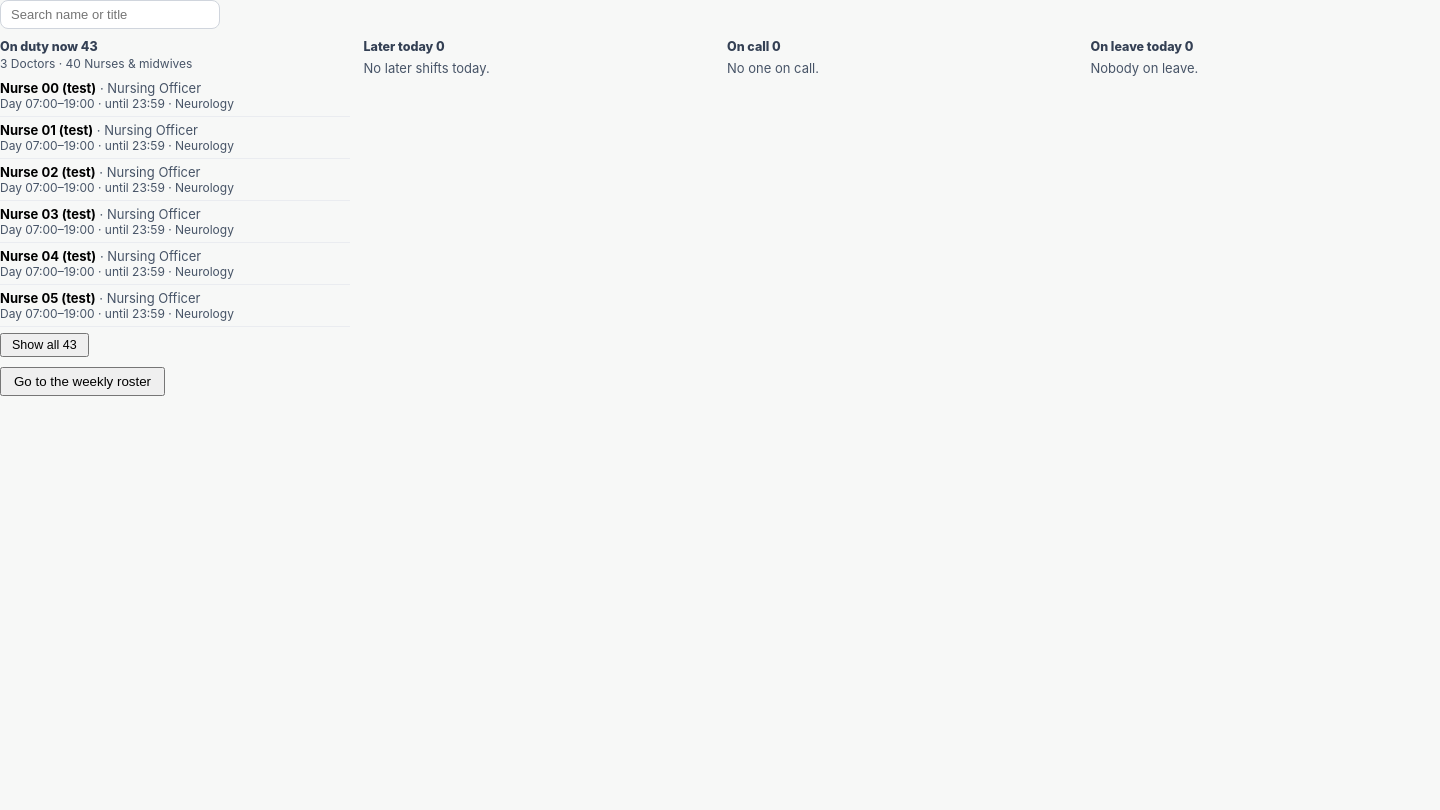
it: large departments › summarises by role, shows 6 per group until "Show all", and searches by name
The image size is (1440, 810).
expect the text "3 Doctors · 40 Nurses & midwives" is shown: met, box [0,56,192,71]
expect the text "Nurse 00 (test)" is shown 6 times: met, box [0,80,96,96]; [0,122,93,138]; [0,164,96,180]; [0,206,96,222]; [0,248,96,264]; [0,290,96,306]
Step 1. Click the button "Show all 43" → (44, 345), box [0,333,89,357]
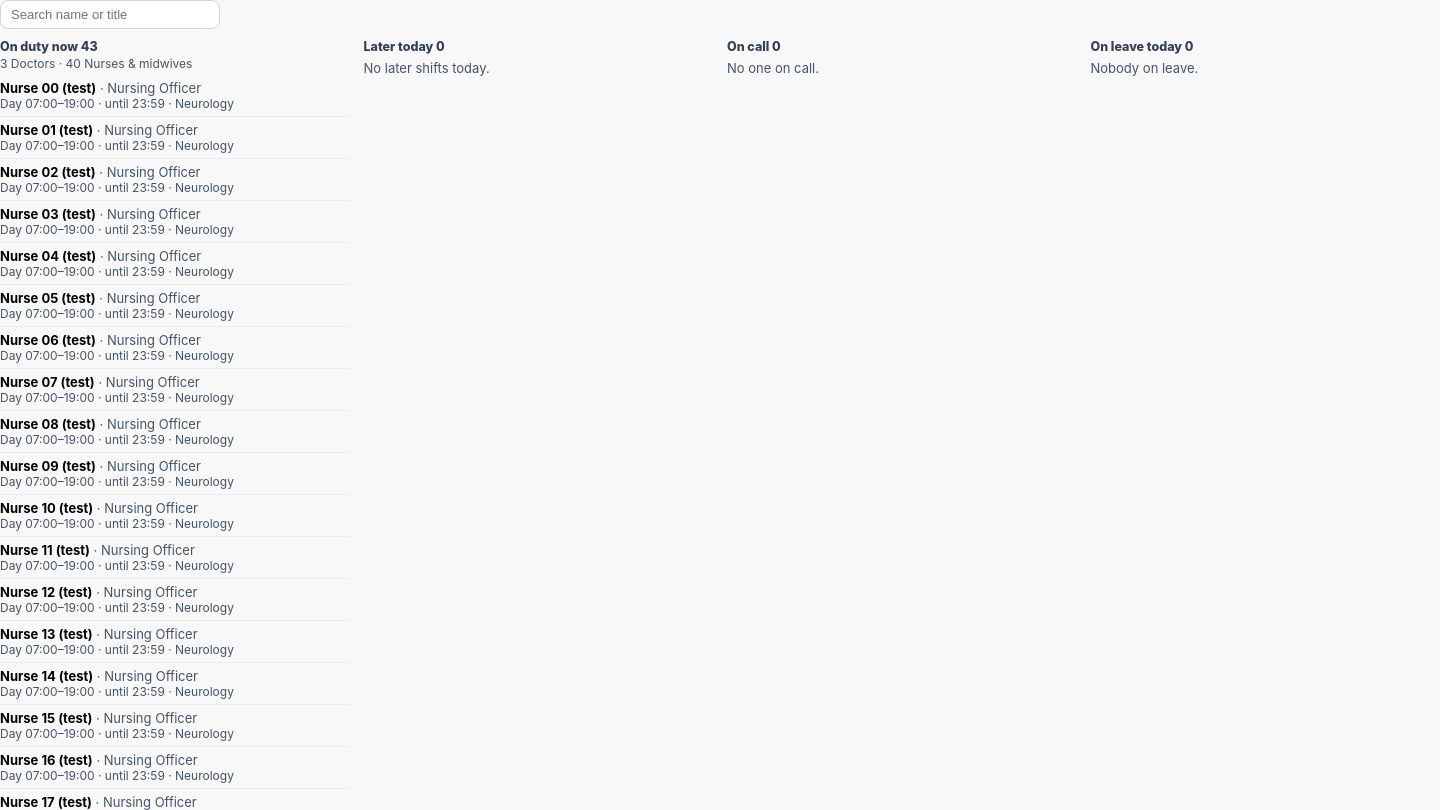
expect the text "Nurse 00 (test)" is shown 43 times: met
Step 2. Type "doctor" into the search field named "Search the duty list" → (110, 14), box [0,0,220,29]
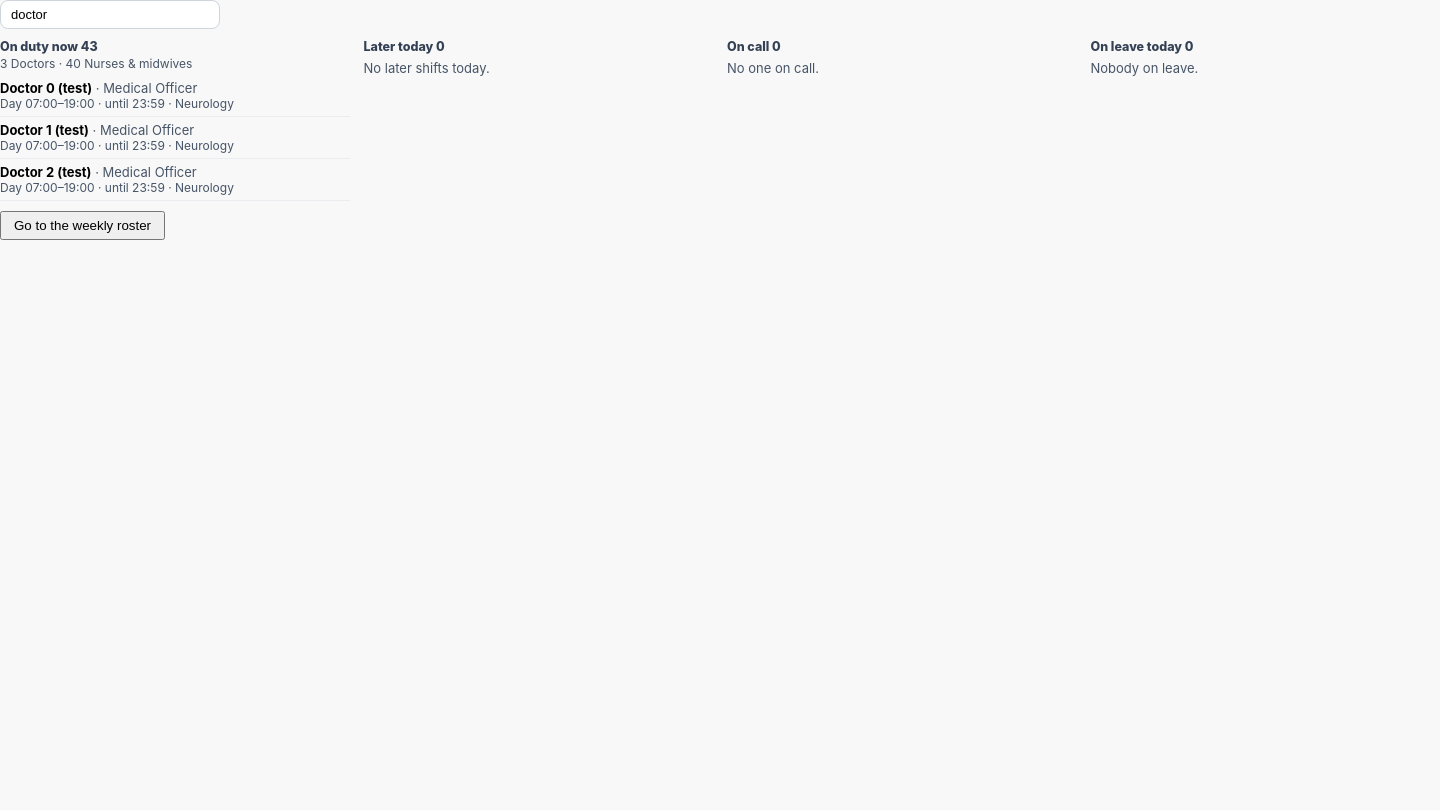
expect the text "Doctor 0 (test)" is shown 3 times: met, box [0,80,92,96]; [0,122,89,138]; [0,164,92,180]
